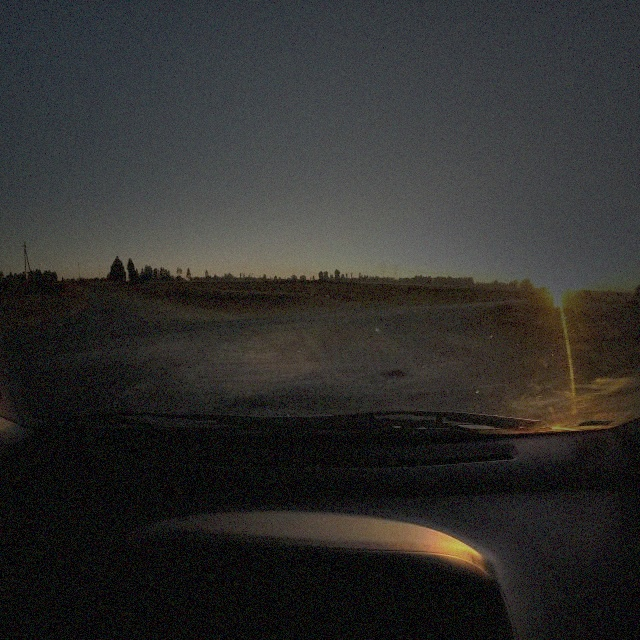pothole: (383, 368, 408, 384), (61, 322, 74, 329)
